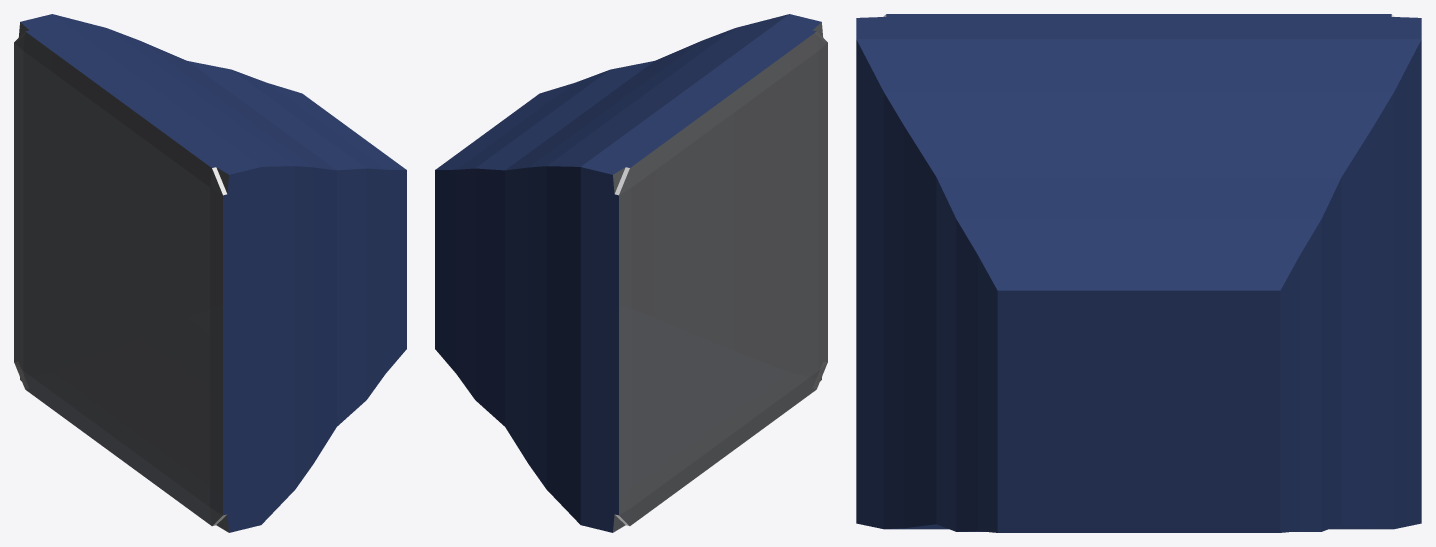
File: tvjam 1.fbx
The picture shows the model from 3 angles, left to right: view 1: azimuth 30°, elevation 25°; view 2: azimuth 150°, elevation 25°; view 3: azimuth 270°, elevation 25°; orthographic projection. The views are drawn at different scales.
Parts seen in each view (by area): view 1: Cube; view 2: Cube; view 3: Cube.
Boxes of the visible parts, x1,y1,x2,y2 form: Cube: [14, 14, 406, 532]; Cube: [435, 14, 827, 532]; Cube: [856, 14, 1421, 532].
Bounding box in the file's own units: 131 × 189 × 200.
